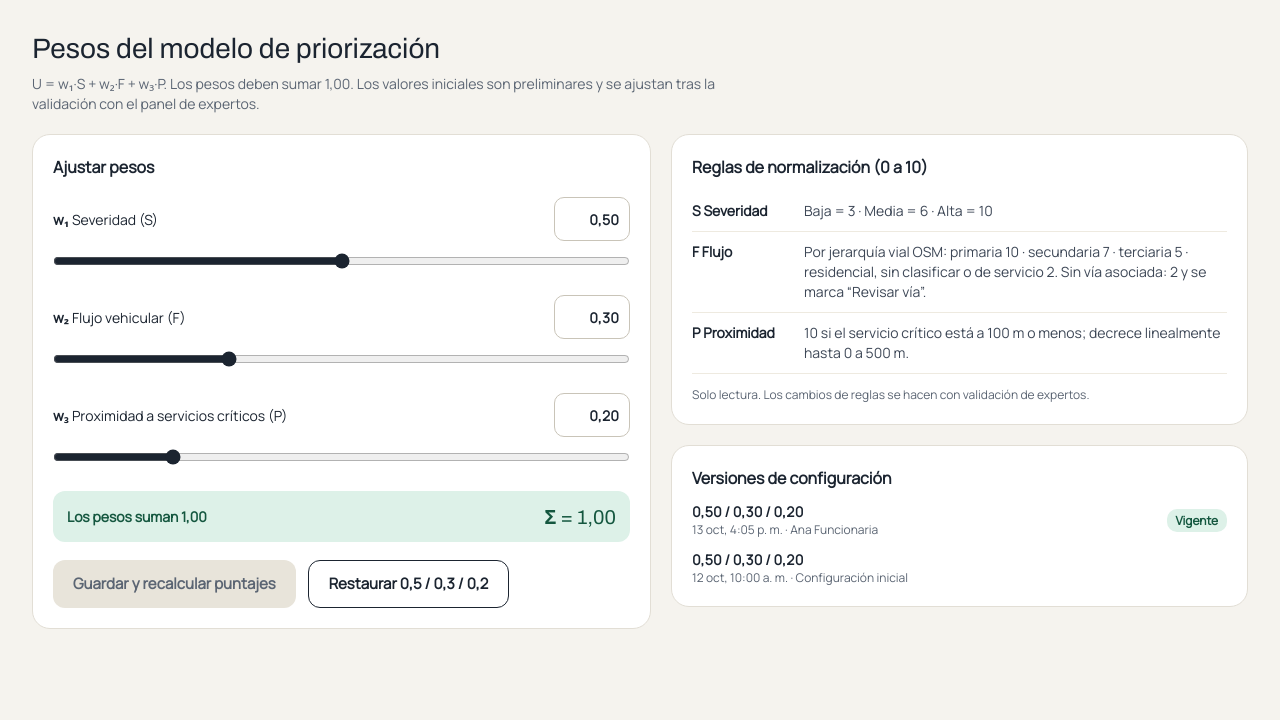
Test case: pantalla Pesos del modelo › server_422_message_shown
Replace the text in the field labelled "w₁ Severidad (S)" with "0,6": (592, 219) x1=554 y1=197 x2=630 y2=241
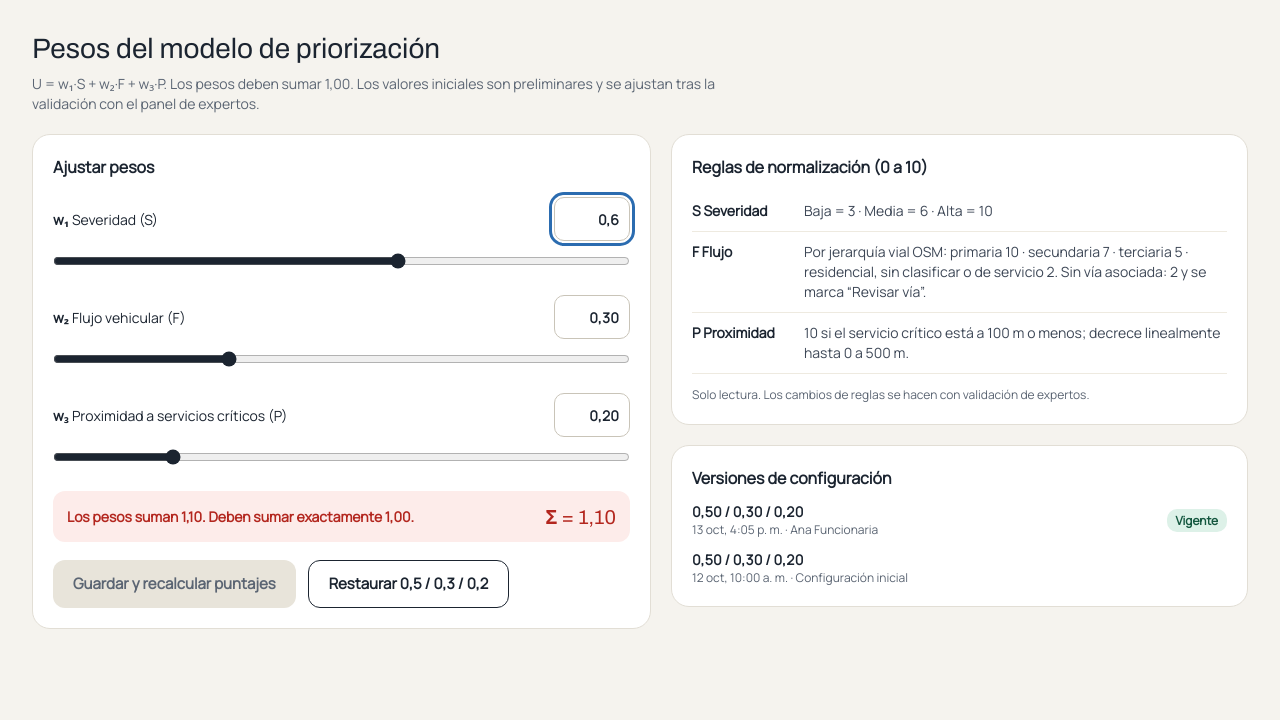
Replace the text in the field labelled "w₃ Proximidad a servicios críticos (P)" with "0,1": (592, 415) x1=554 y1=393 x2=630 y2=437
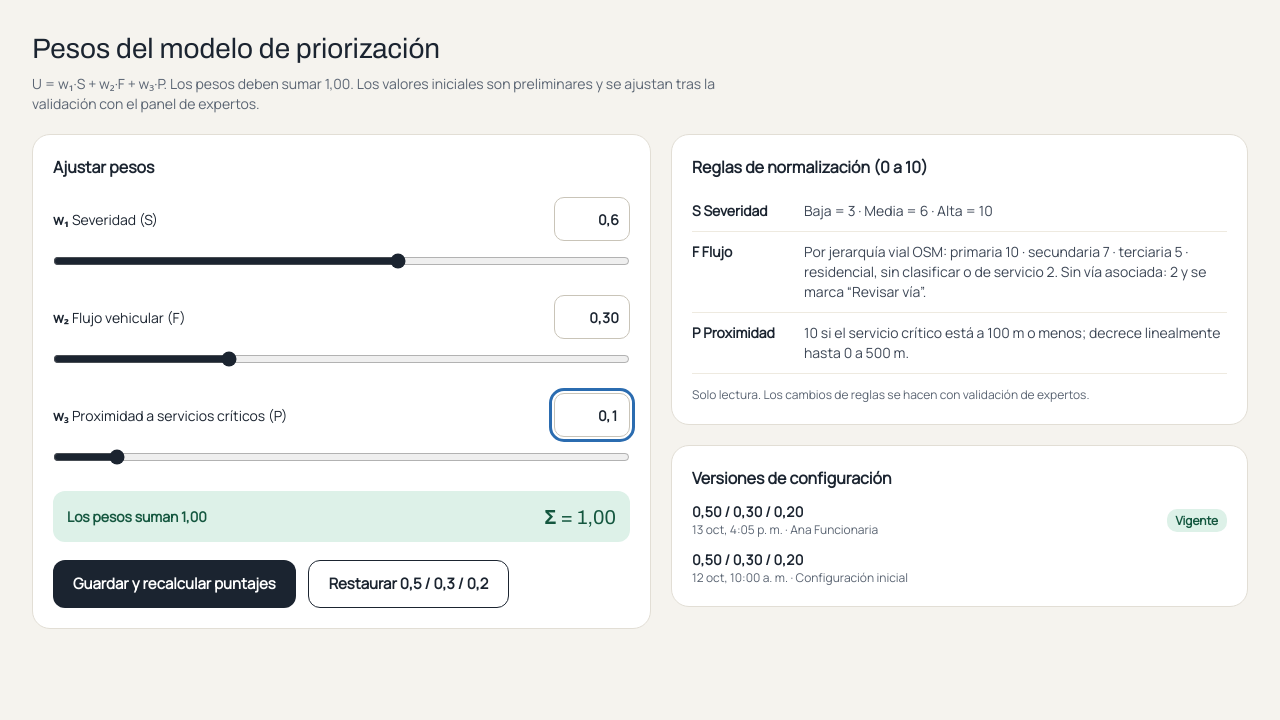
Click the button "Guardar y recalcular puntajes": (174, 584) x1=53 y1=560 x2=296 y2=608
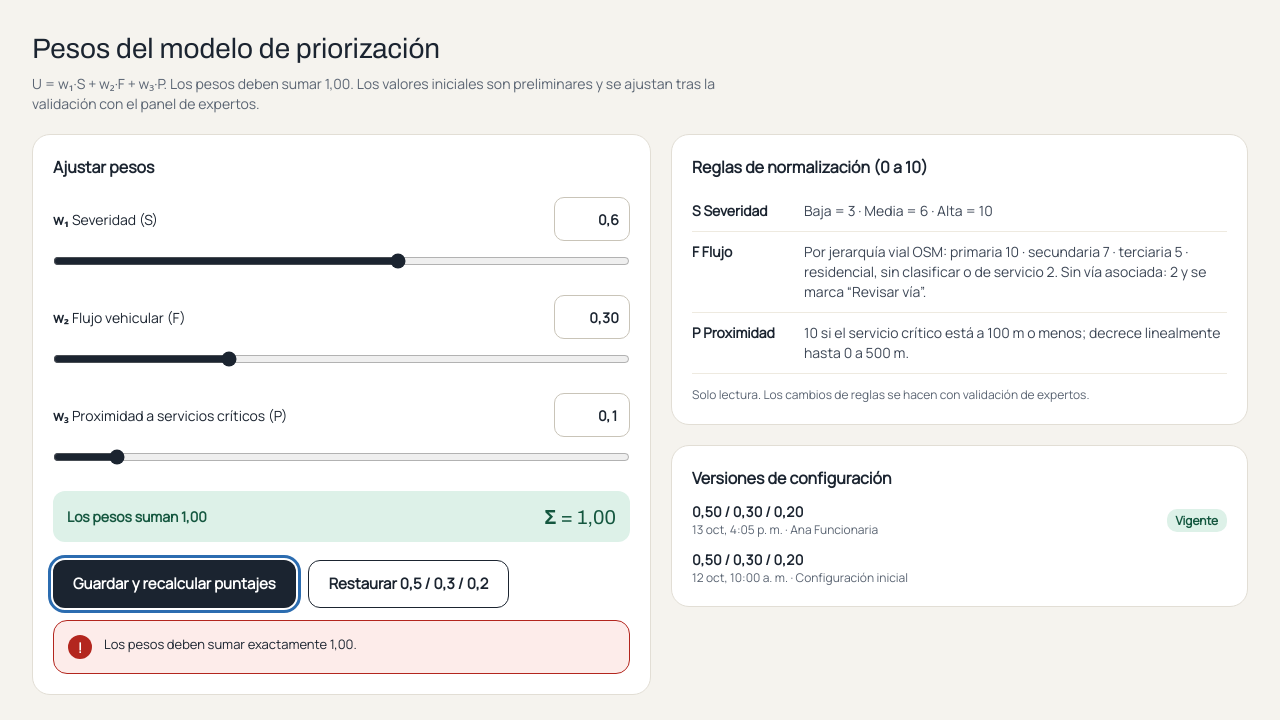
Expected: the message shows "Los pesos deben sumar exactamente 1,00.", x1=104 y1=635 x2=357 y2=653
